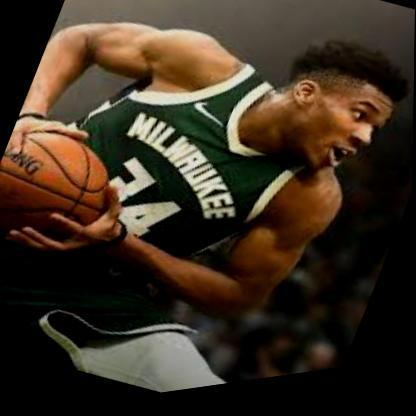basketball: (0, 111, 137, 271)
